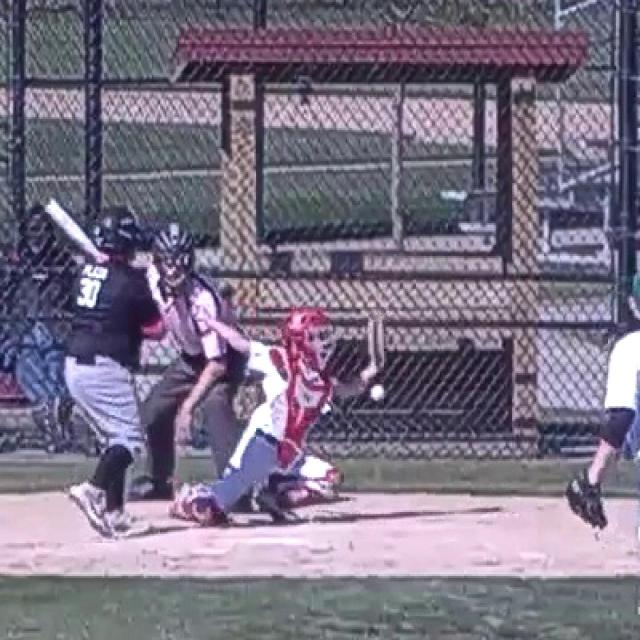baseball: (371, 386, 385, 400)
